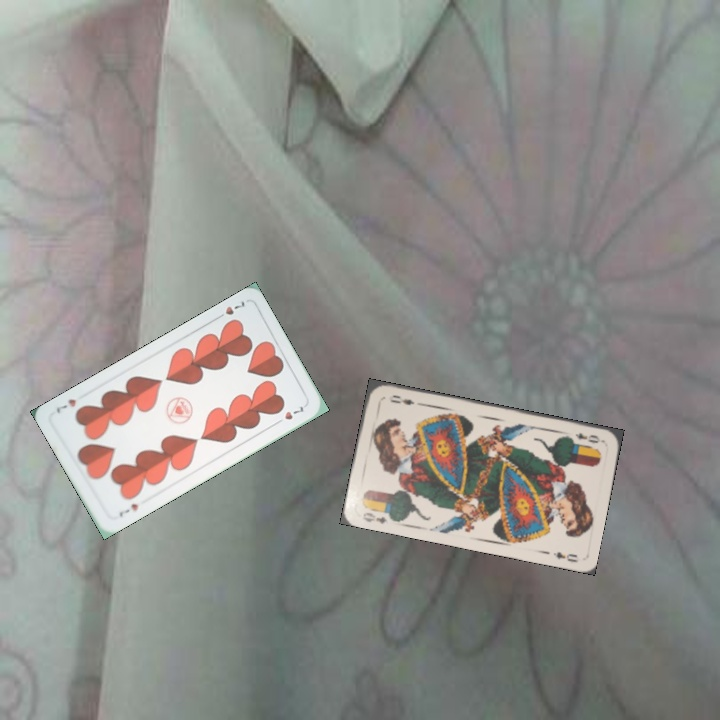EO: (571, 429, 605, 446), (358, 508, 390, 526)
H7: (211, 297, 247, 322), (115, 499, 141, 519)
